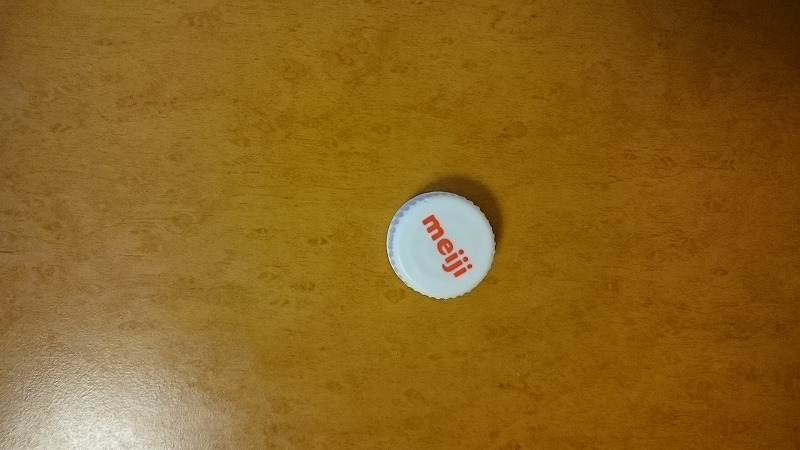B: (377, 186, 500, 306)
